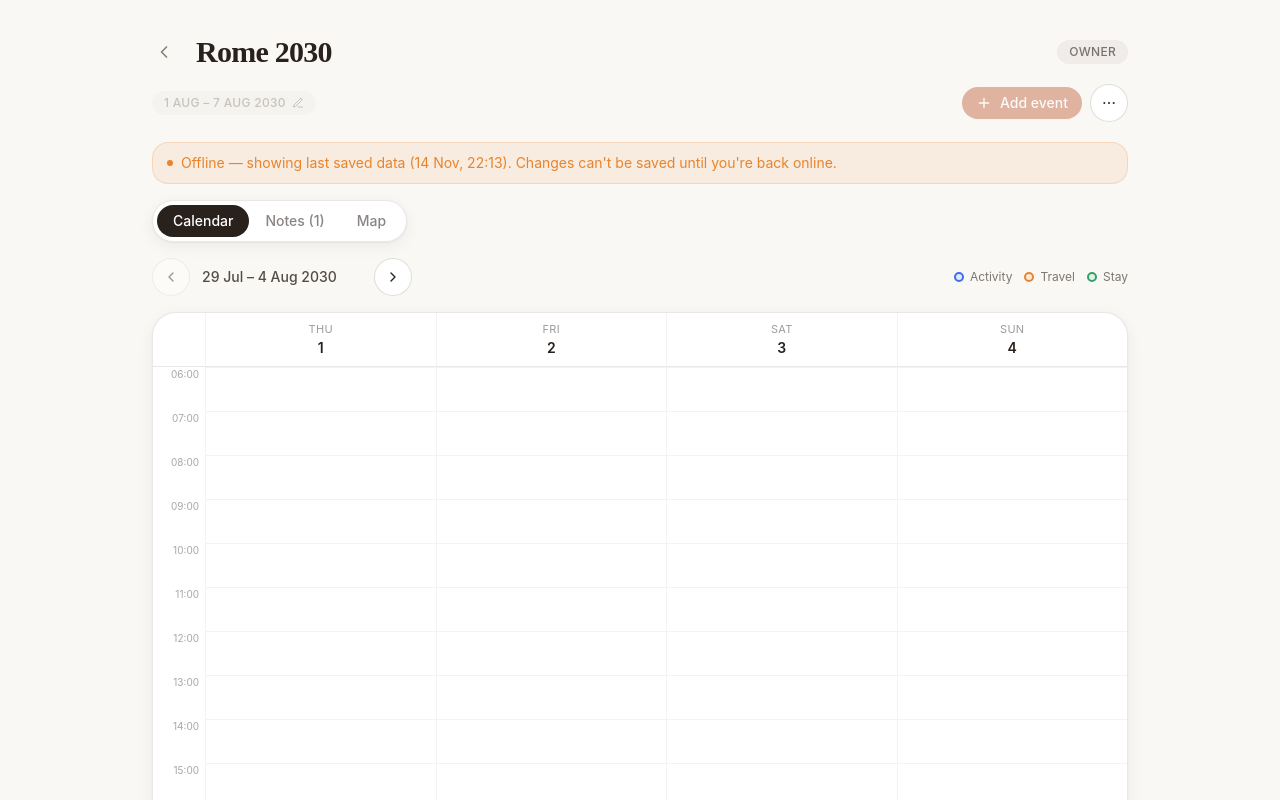
TripView — offline snapshots › loads the last snapshot from IndexedDB when offline
This screenshot has width=1280, height=800.
Click the tab "Notes (1)" at (295, 221), box [249, 205, 341, 237]
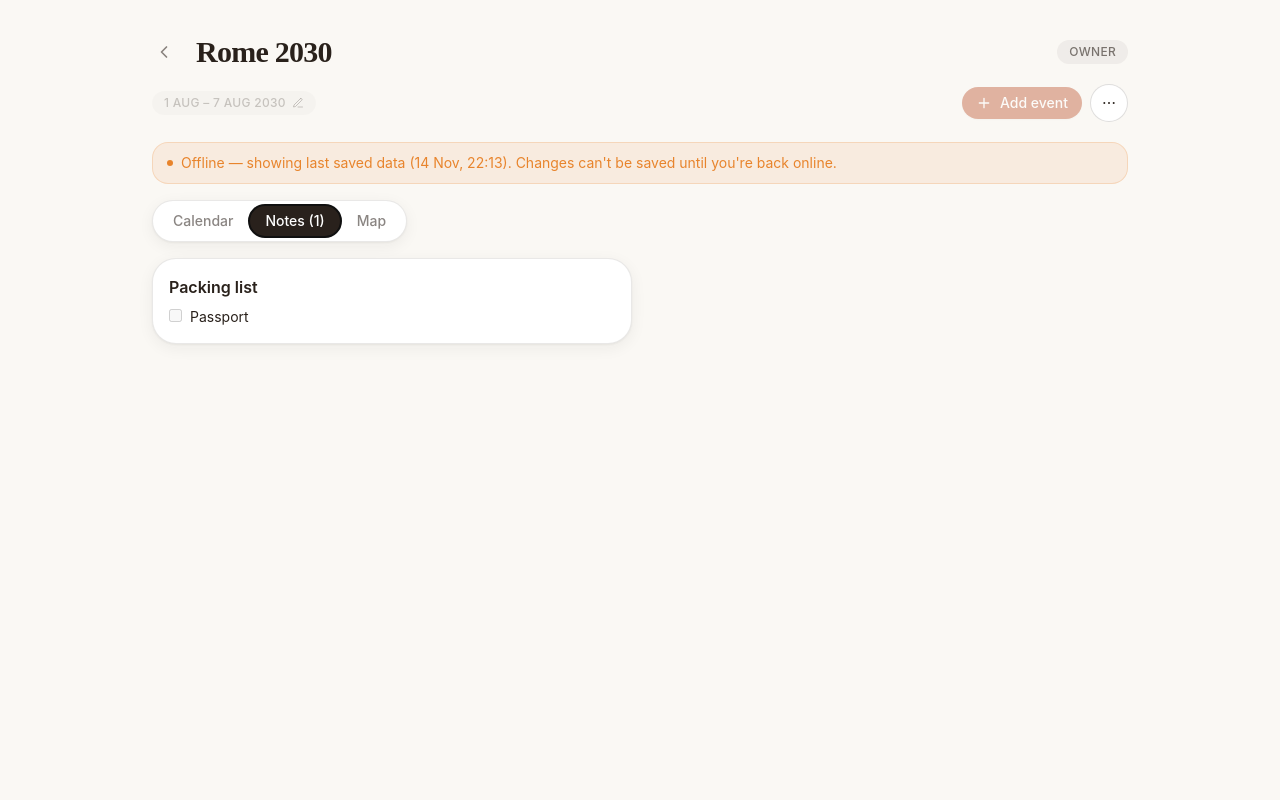
Check: the text "Passport" is shown, box [190, 307, 249, 327]
